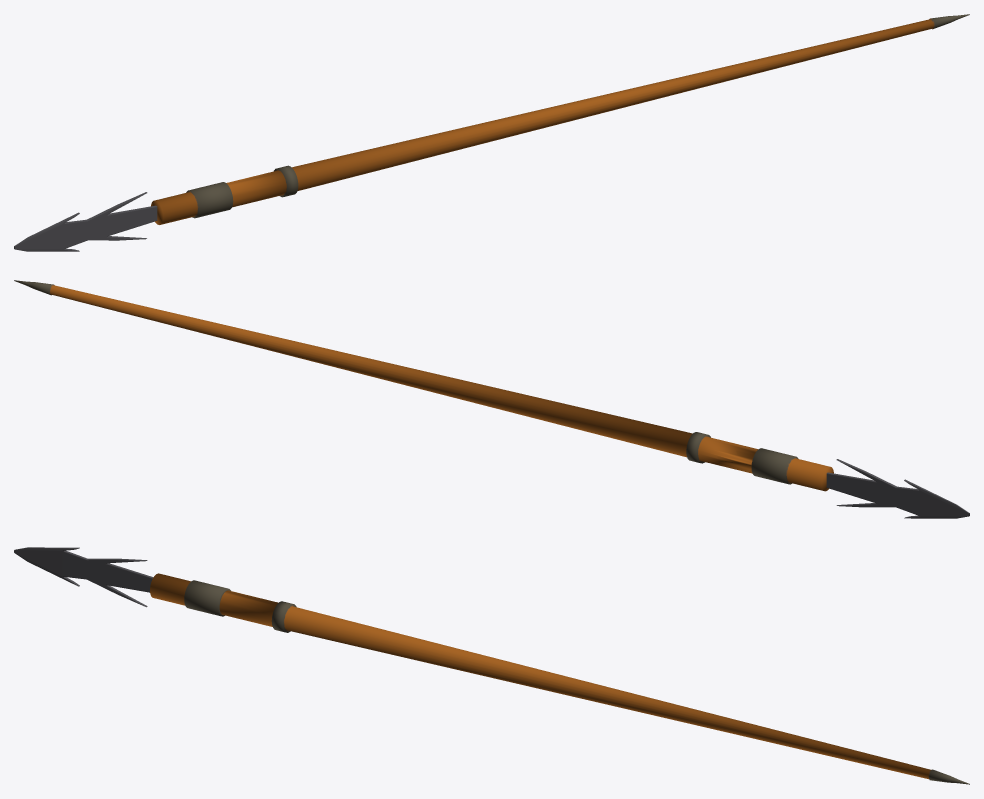
File: Hinolgat.glb
3 renders of one model, top to bottom at view 1: azimuth 30°, elevation 25°; view 2: azimuth 150°, elevation 25°; view 3: azimuth 330°, elevation 25°, orthographic.
Visible parts, largest first — view 1: pCylinder3; view 2: pCylinder3; view 3: pCylinder3.
Boxes of the visible parts, x1,y1,x2,y2 form: pCylinder3: (14,14,969,251); pCylinder3: (14,280,969,518); pCylinder3: (14,547,969,784).
Bounding box in the file's own units: 5.96 × 0.2753 × 0.161.
1 material, 1 textured.
